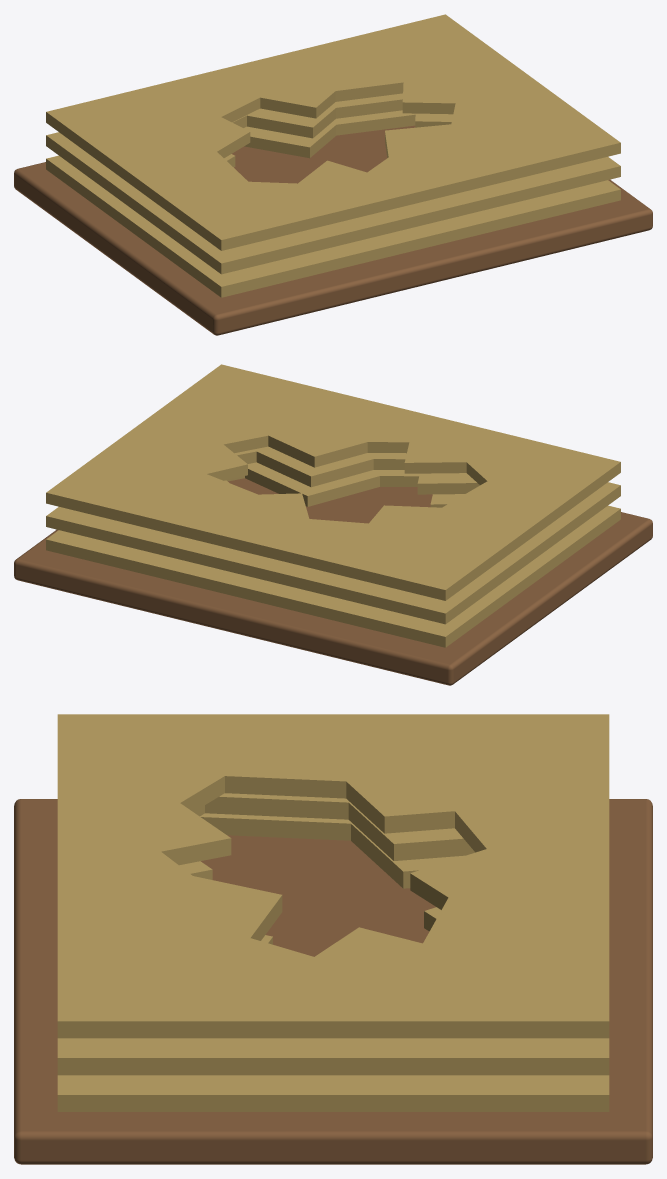
The model's file is fantasy-cartographers-map-printing-guild-relief-contou-10e15e53__32268.glb.
3 renders of one model, top to bottom at view 1: azimuth 30°, elevation 25°; view 2: azimuth 150°, elevation 25°; view 3: azimuth 270°, elevation 25°, orthographic. The views are drawn at different scales.
Visible parts, largest first — view 1: relief-contour-stencil-set; view 2: relief-contour-stencil-set; view 3: relief-contour-stencil-set.
Part boxes in pixels (x1=…): relief-contour-stencil-set: x1=14, y1=14, x2=652, y2=335; relief-contour-stencil-set: x1=14, y1=364, x2=652, y2=685; relief-contour-stencil-set: x1=14, y1=714, x2=652, y2=1164.
Bounding box in the file's own units: 0.55 × 0.099 × 0.44.
